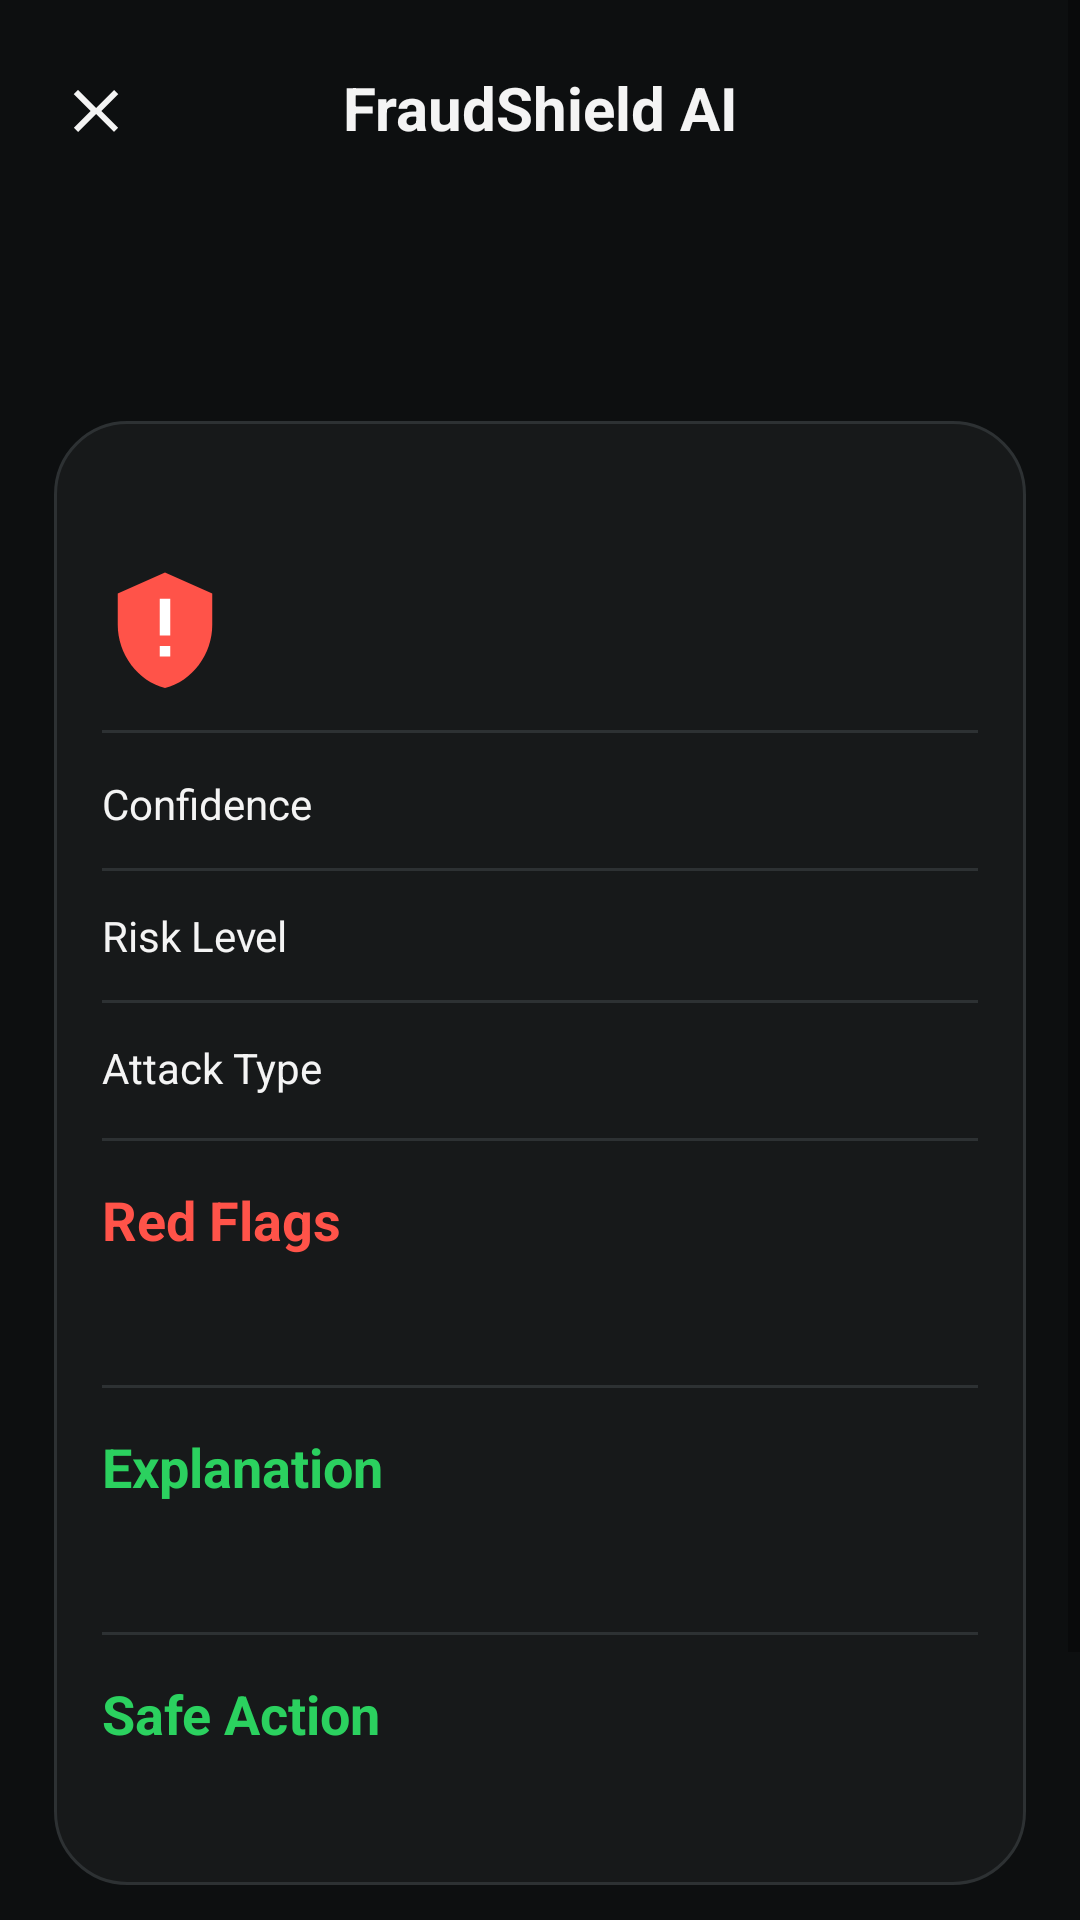

Icon click points for this 1080px×1920px phone screenshot, format (x=x, y=y):
warning: (x=165, y=630)
